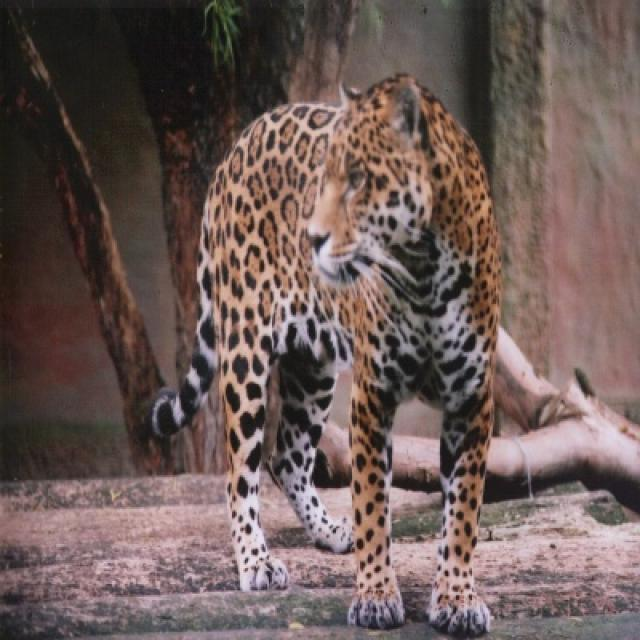Jaguar: (189, 75, 504, 638)
